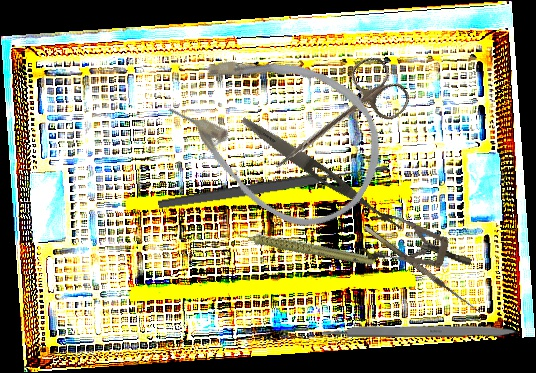Cannula: (149, 16, 406, 248)
Dressing Forceps: (238, 113, 408, 235)
Handpiece: (230, 196, 377, 295)
Hook Surgical: (363, 219, 486, 315)
Iris Scissors: (257, 50, 416, 196)
Scalpel Handle: (322, 324, 518, 337)
Speculum: (359, 209, 478, 287)
Surgical Spoon: (157, 161, 389, 212)
